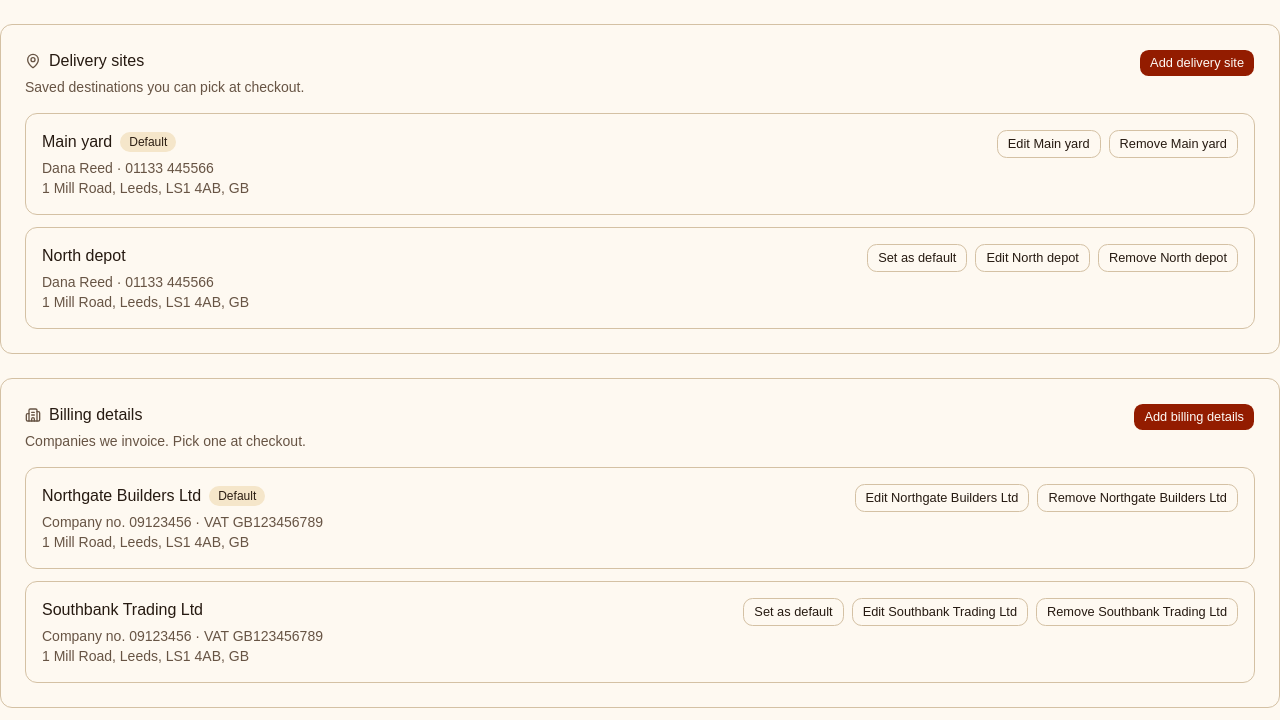
Scenario: DeliverySitesSection › surfaces a row action failure without clearing the list
Click the button "Remove Main yard".
click(1173, 144)  # box [1109,130,1238,158]
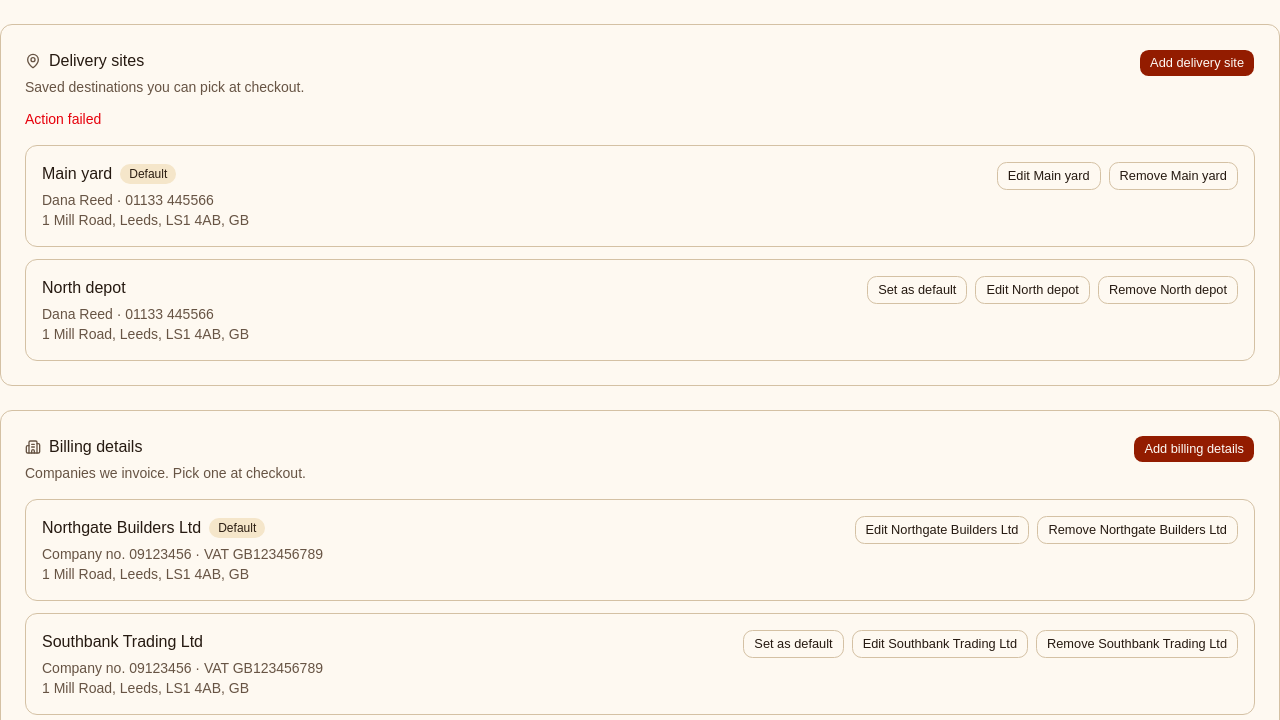
Expected: the text "Main yard" is shown, [42,162,112,186]
Result: the text "Action failed" is shown at [25,111,101,127]
